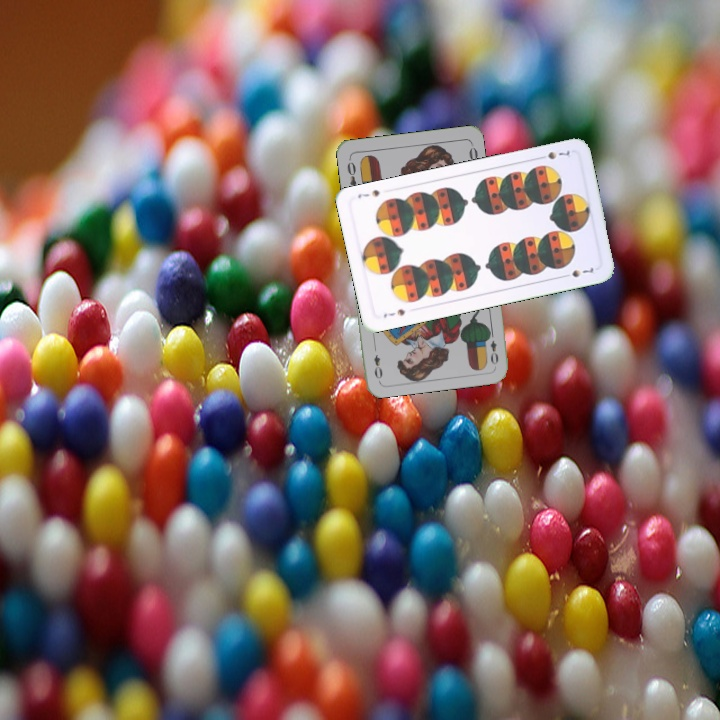EO: (483, 327, 501, 367), (343, 154, 359, 190)
S7: (534, 146, 574, 162), (379, 305, 408, 321)
